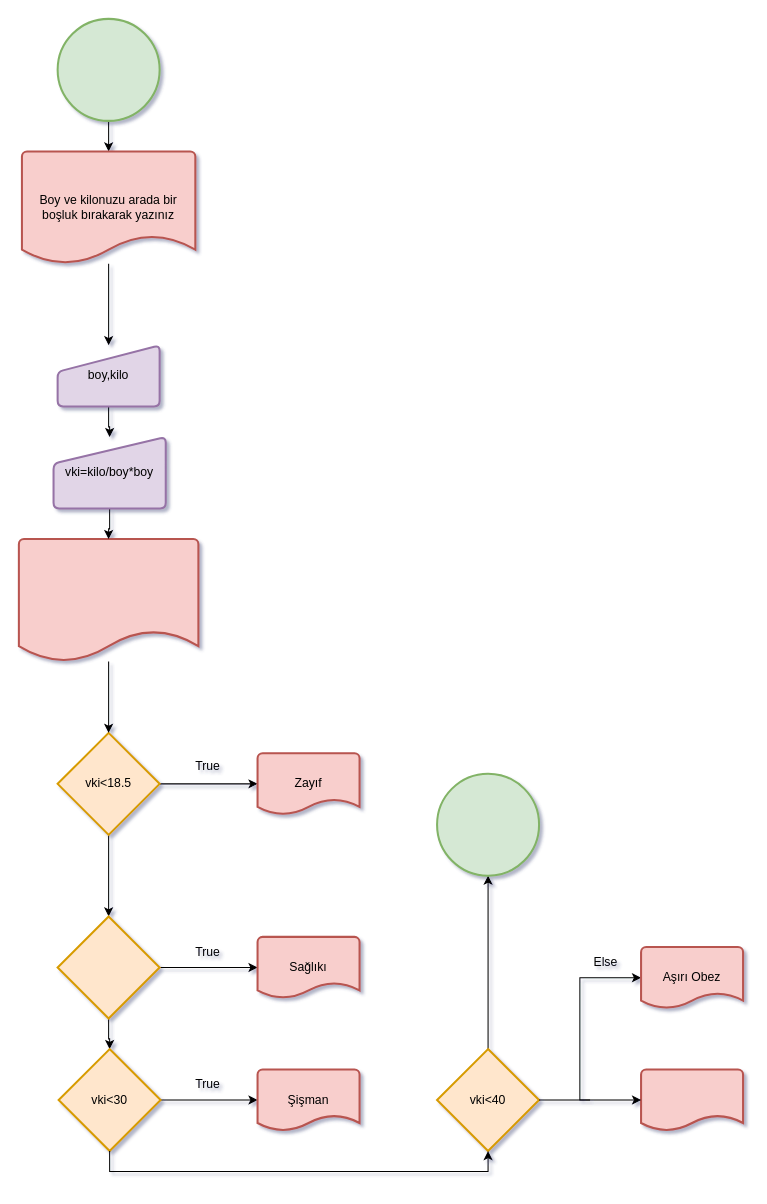
This 767x1204 diagram has some shape labels left out. The centre of each missing label's shape, as x and y in pixels:
Başla: point 108,69
Bitir: point 488,824
Obez: point 692,1099
vki<25: point 108,967
Vücut kitle indeksiniz: +vki: point 108,600
